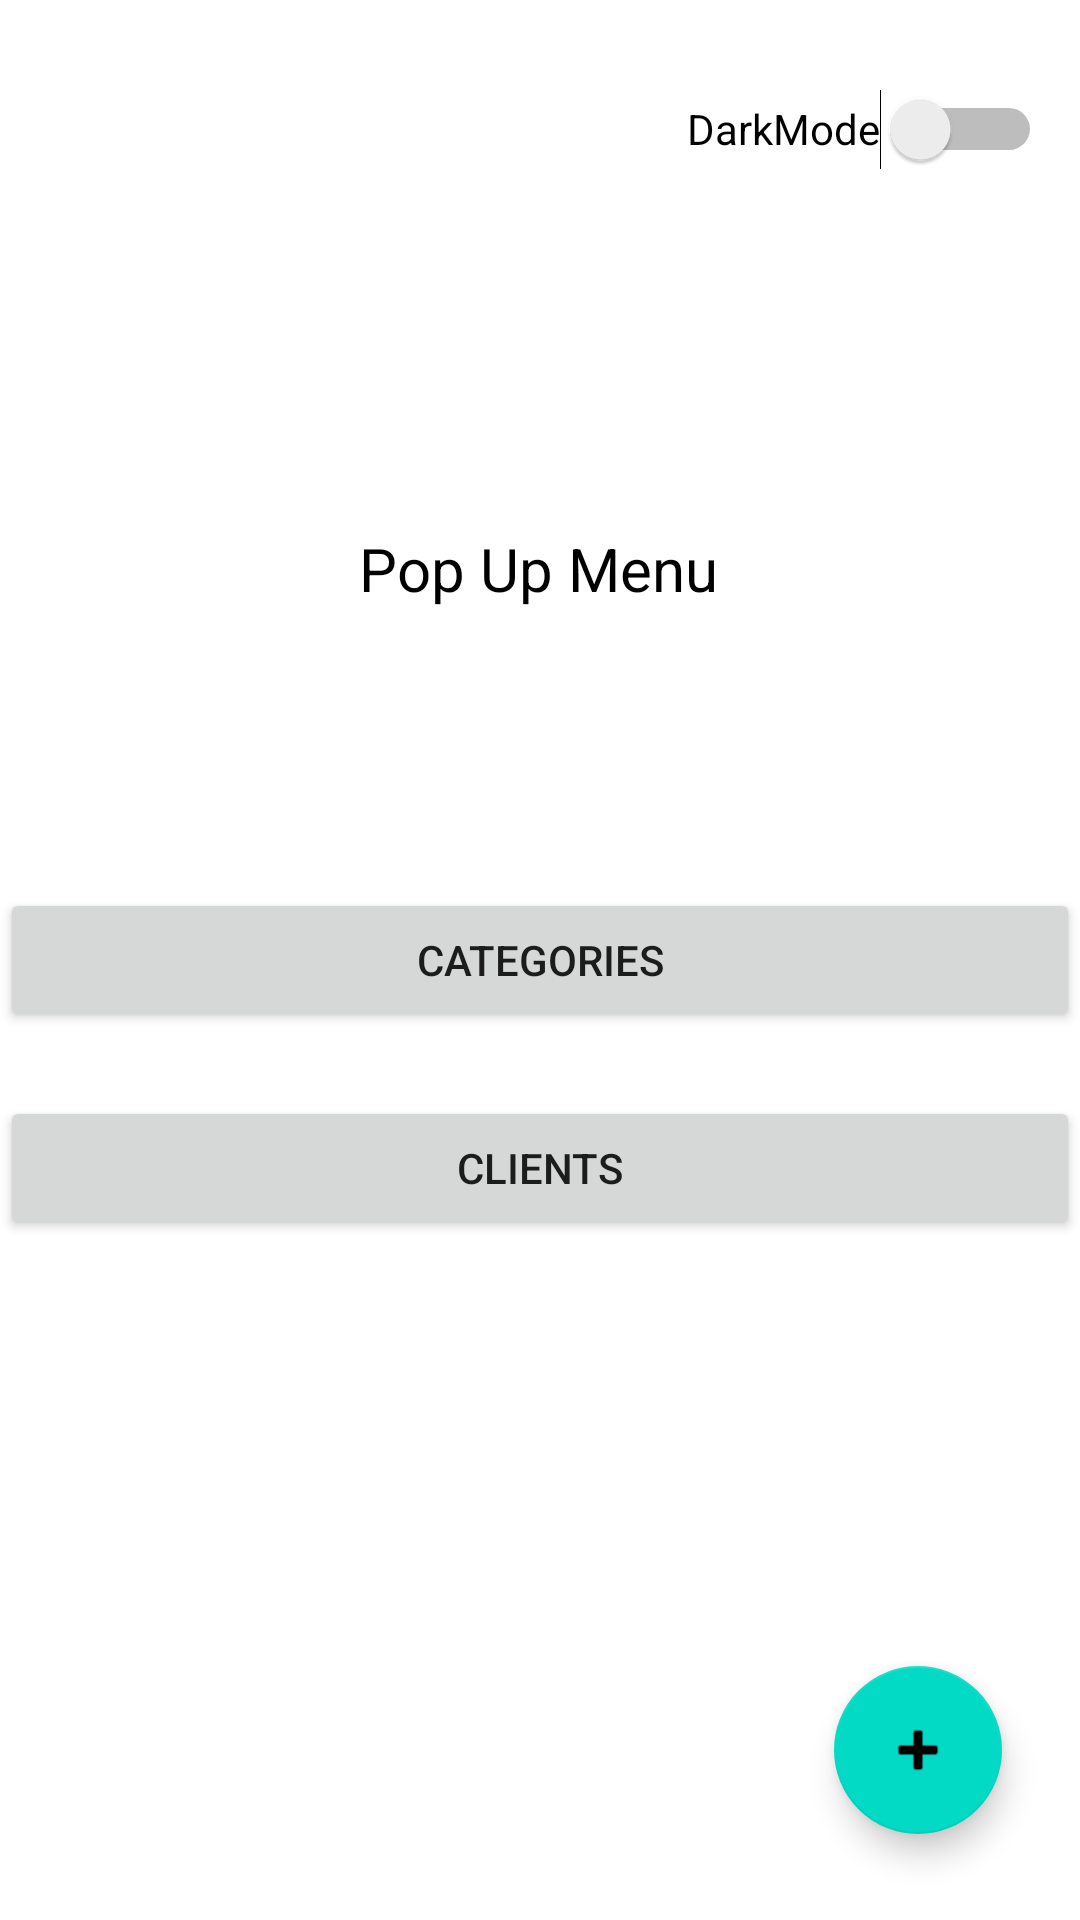

Icons on this 1080w x 1920h Android screen, each with the point to tap as (x,y):
add: (918,1750)
